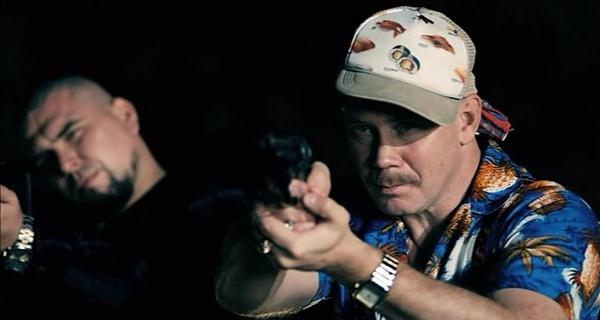Gun: (251, 134, 311, 206)
